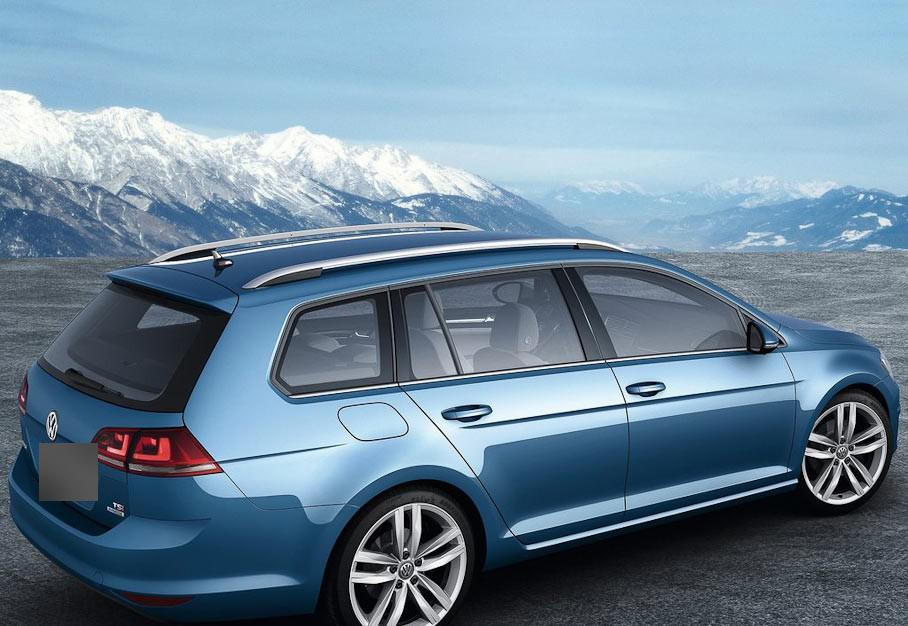Wagon: (7, 220, 900, 626)
